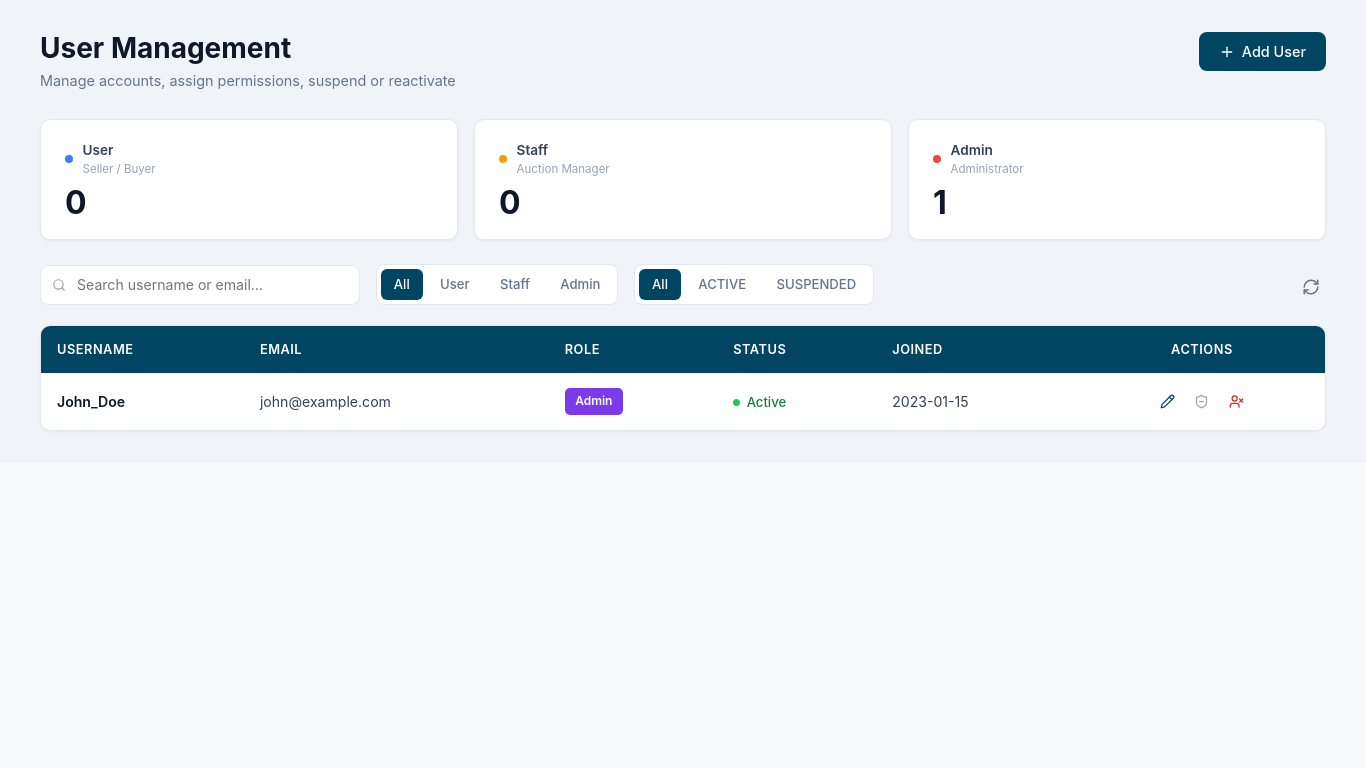
UserManagement Component › opens Edit User modal on edit button click
Expected: the text "John_Doe" is shown, [57, 393, 125, 410]
Click the button titled "Edit user": (1167, 401) [1152, 386, 1182, 416]
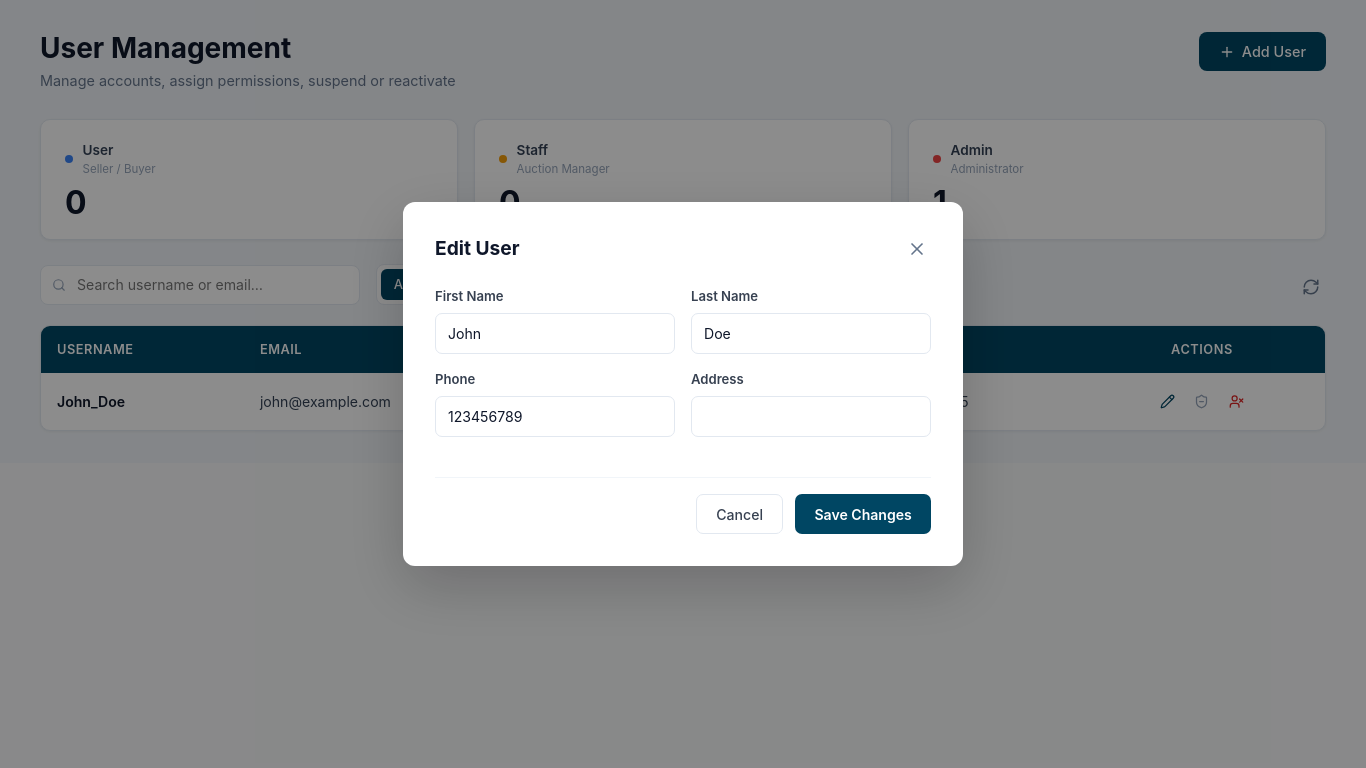
Expected: the heading "Edit User" is shown, [435, 237, 520, 260]
